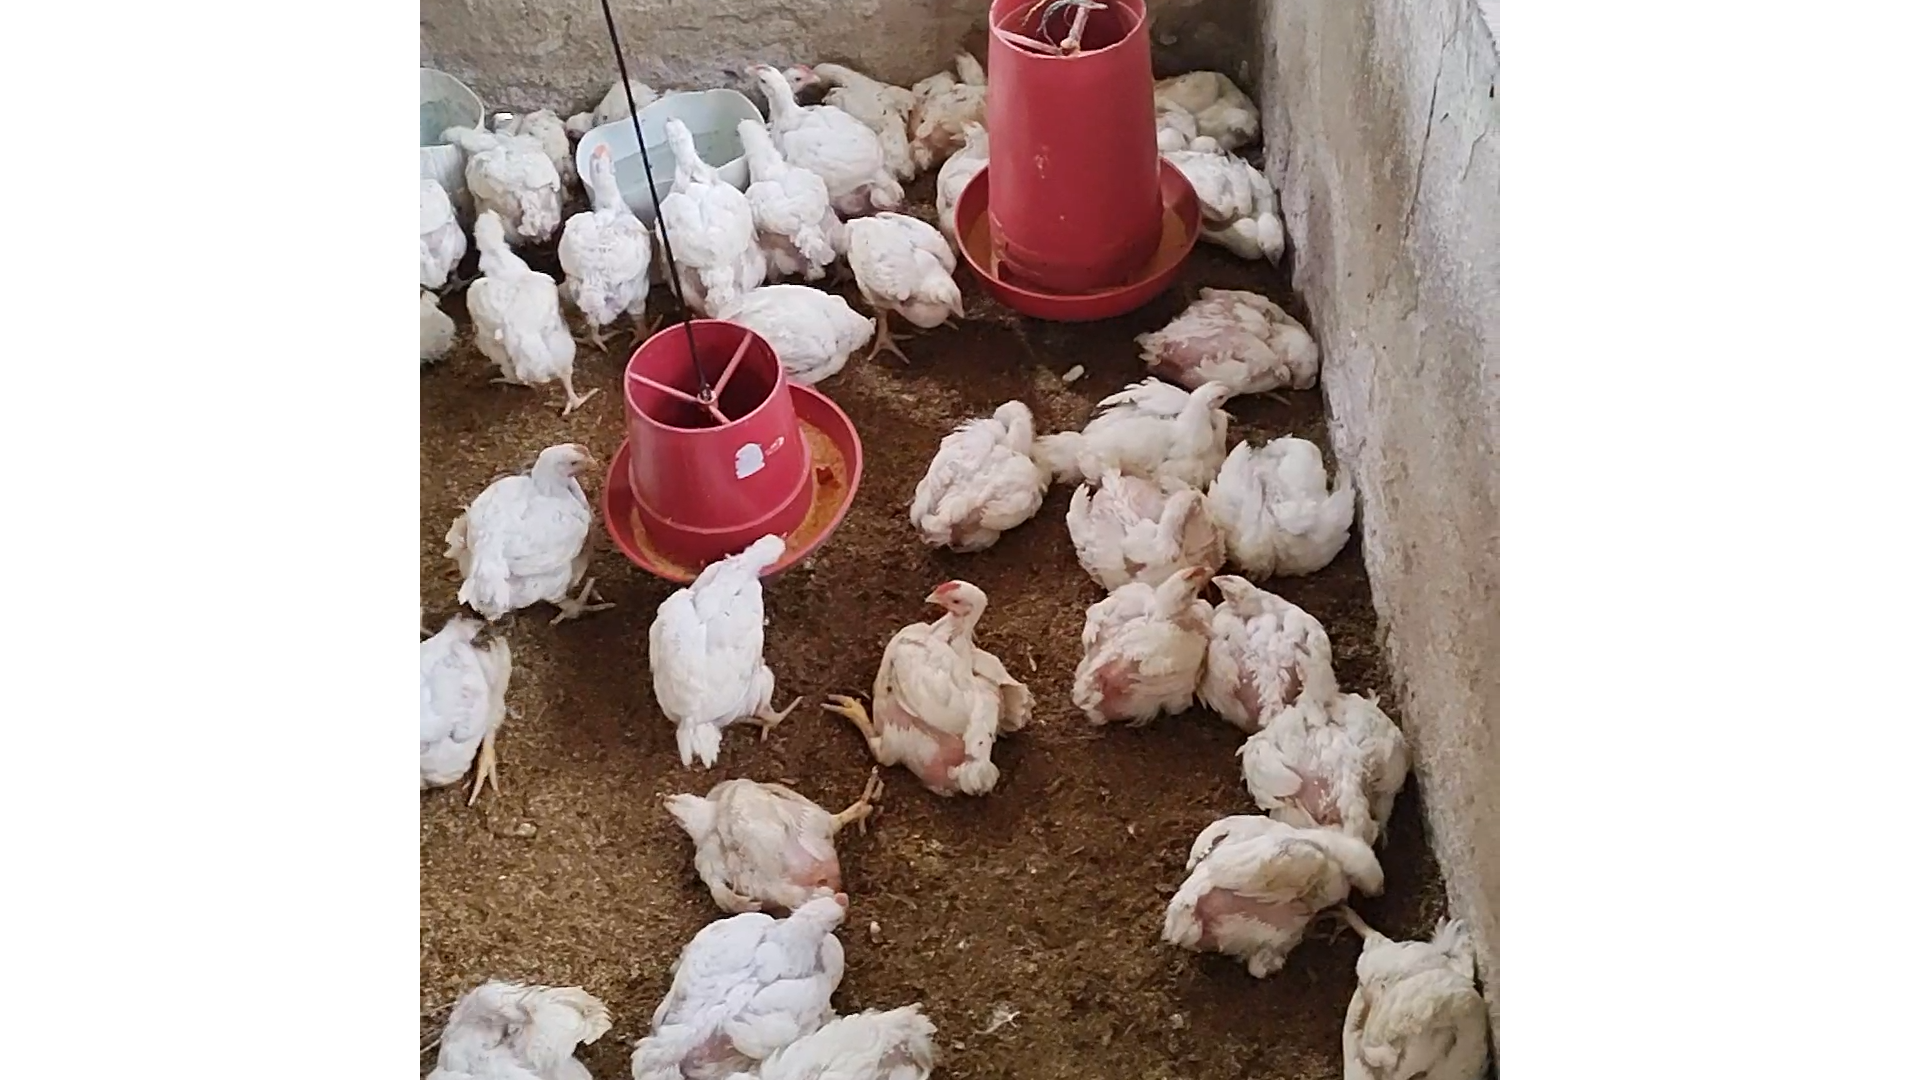Pollos: (612, 884, 864, 1080), (833, 574, 1034, 789), (644, 770, 899, 916), (1315, 877, 1498, 1080), (646, 531, 804, 764), (1159, 814, 1379, 977), (1238, 647, 1420, 833), (463, 198, 601, 419), (454, 447, 612, 626), (641, 105, 764, 326), (400, 601, 524, 810), (1017, 375, 1247, 484), (736, 58, 901, 211), (1069, 564, 1226, 721), (1203, 563, 1340, 738), (905, 386, 1048, 553), (1129, 286, 1331, 402), (1199, 425, 1356, 571), (1071, 462, 1230, 593), (433, 105, 579, 248), (843, 208, 975, 360), (555, 141, 657, 335), (1154, 141, 1294, 274), (733, 115, 837, 278), (720, 286, 882, 376), (820, 50, 930, 179), (1154, 65, 1269, 152), (766, 41, 825, 109)
